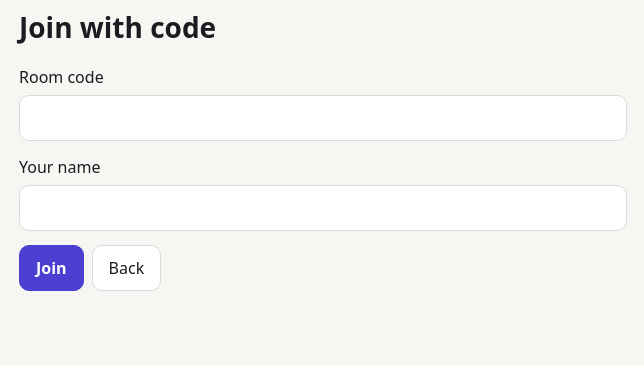
Test: a room mid-game cannot be joined
The width and height of the screenshot is (644, 366).
In the field labelled "Room code": (323, 118) [19, 95, 627, 141], type "abcd"
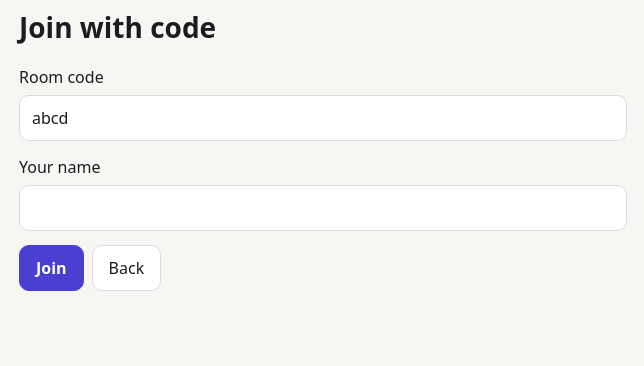
In the field labelled "Your name": (323, 208) [19, 185, 627, 231], type "ann"
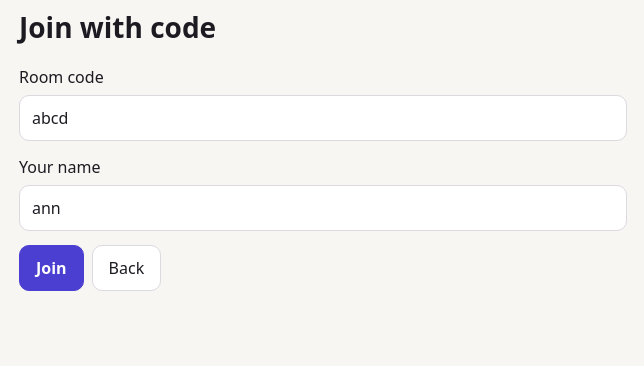
Click the button "Join": (51, 268) [19, 245, 84, 291]
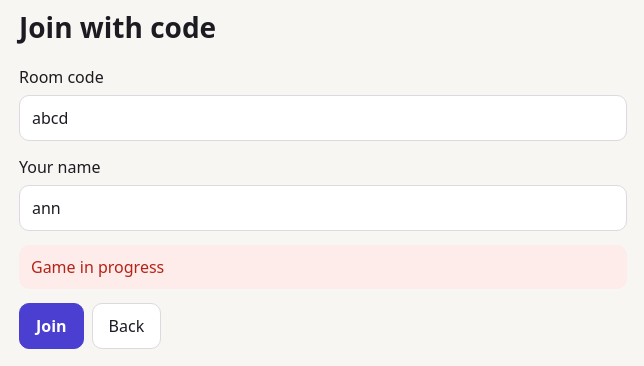
Expected: the message reads "Game in progress", [31, 256, 164, 278]
